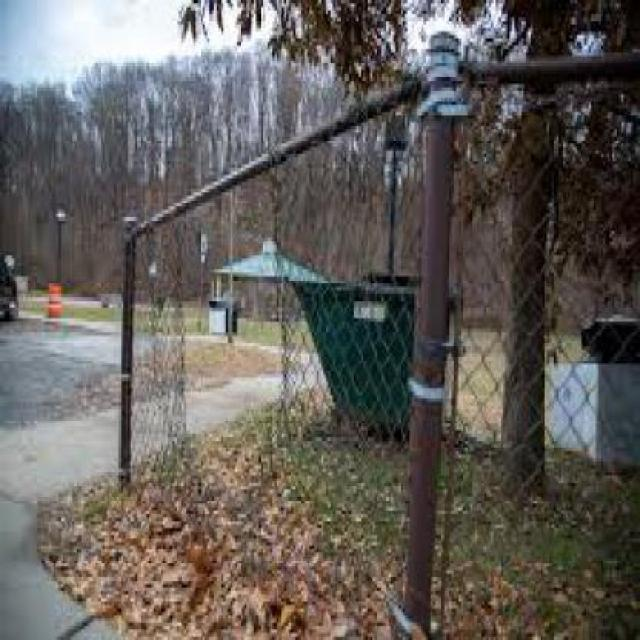fence line: (175, 211, 296, 520)
